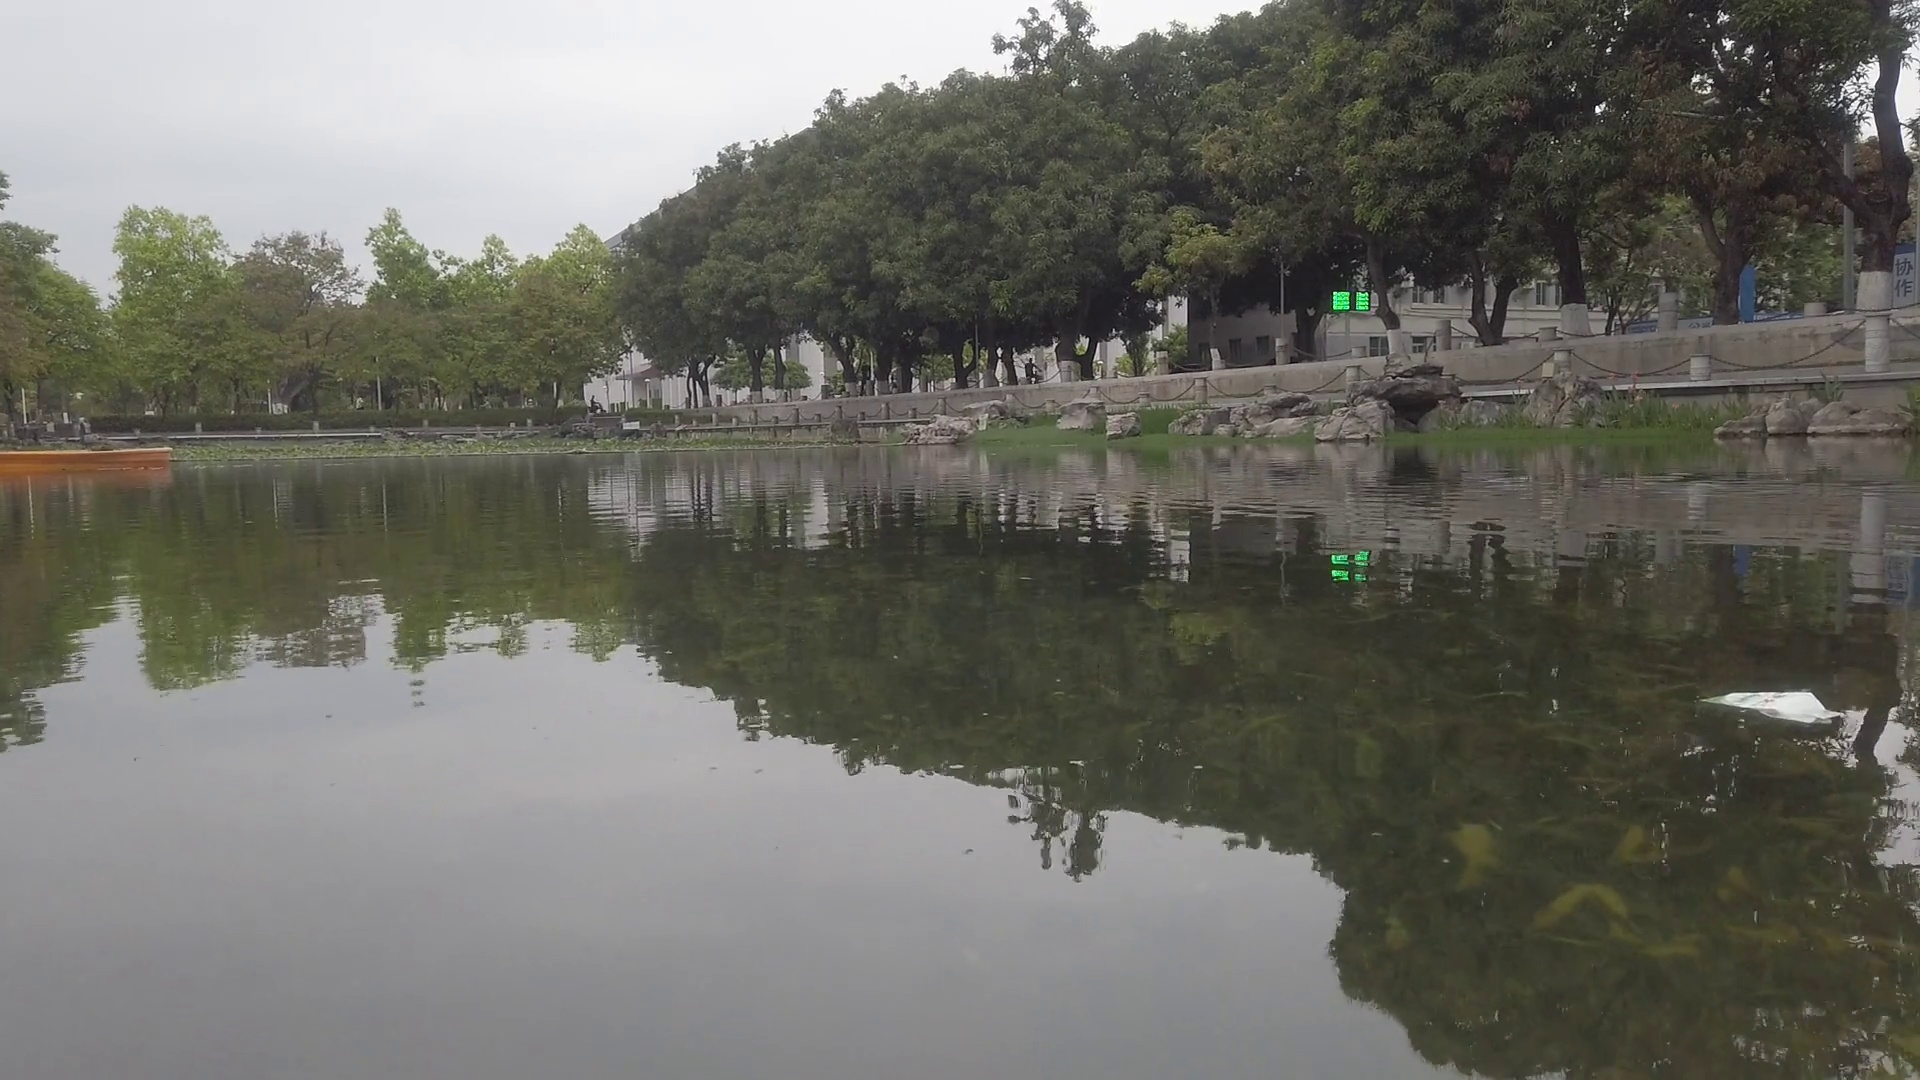paper: (1712, 684, 1847, 738)
